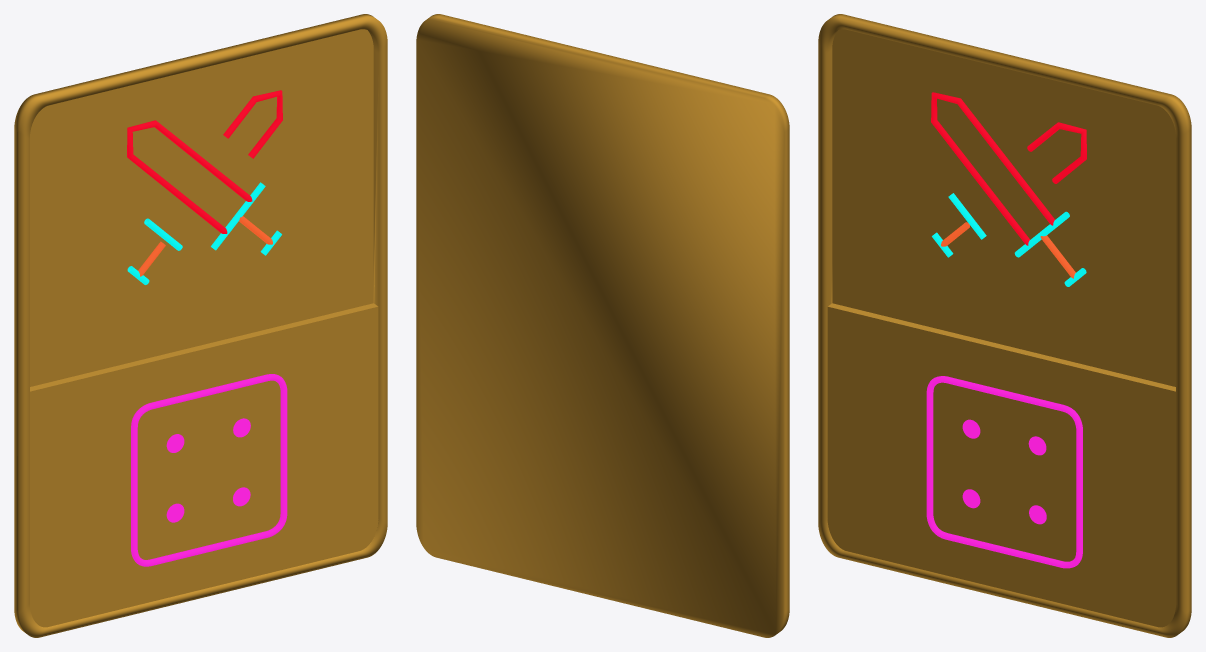
The model's file is CardAttack.glb.
3 views of the same model, side by side, from view 1: azimuth 30°, elevation 25°; view 2: azimuth 150°, elevation 25°; view 3: azimuth 330°, elevation 25° (orthographic).
Parts seen in each view (by area): view 1: Cube, Curve.008, Curve, Curve.004, Curve.001; view 2: Cube; view 3: Cube, Curve.008, Curve, Curve.004.
Boxes of the visible parts, left/top/right/bottom form: Cube: left=14, top=14, right=387, bottom=637; Curve.008: left=131, top=374, right=287, bottom=566; Curve: left=127, top=120, right=252, bottom=233; Curve.004: left=223, top=90, right=282, bottom=158; Curve.001: left=211, top=182, right=265, bottom=250; Cube: left=416, top=14, right=789, bottom=637; Cube: left=818, top=14, right=1191, bottom=637; Curve.008: left=926, top=376, right=1082, bottom=568; Curve: left=931, top=92, right=1054, bottom=245; Curve.004: left=1027, top=122, right=1086, bottom=183.
Bounding box in the file's own units: 5 × 7 × 0.2.
